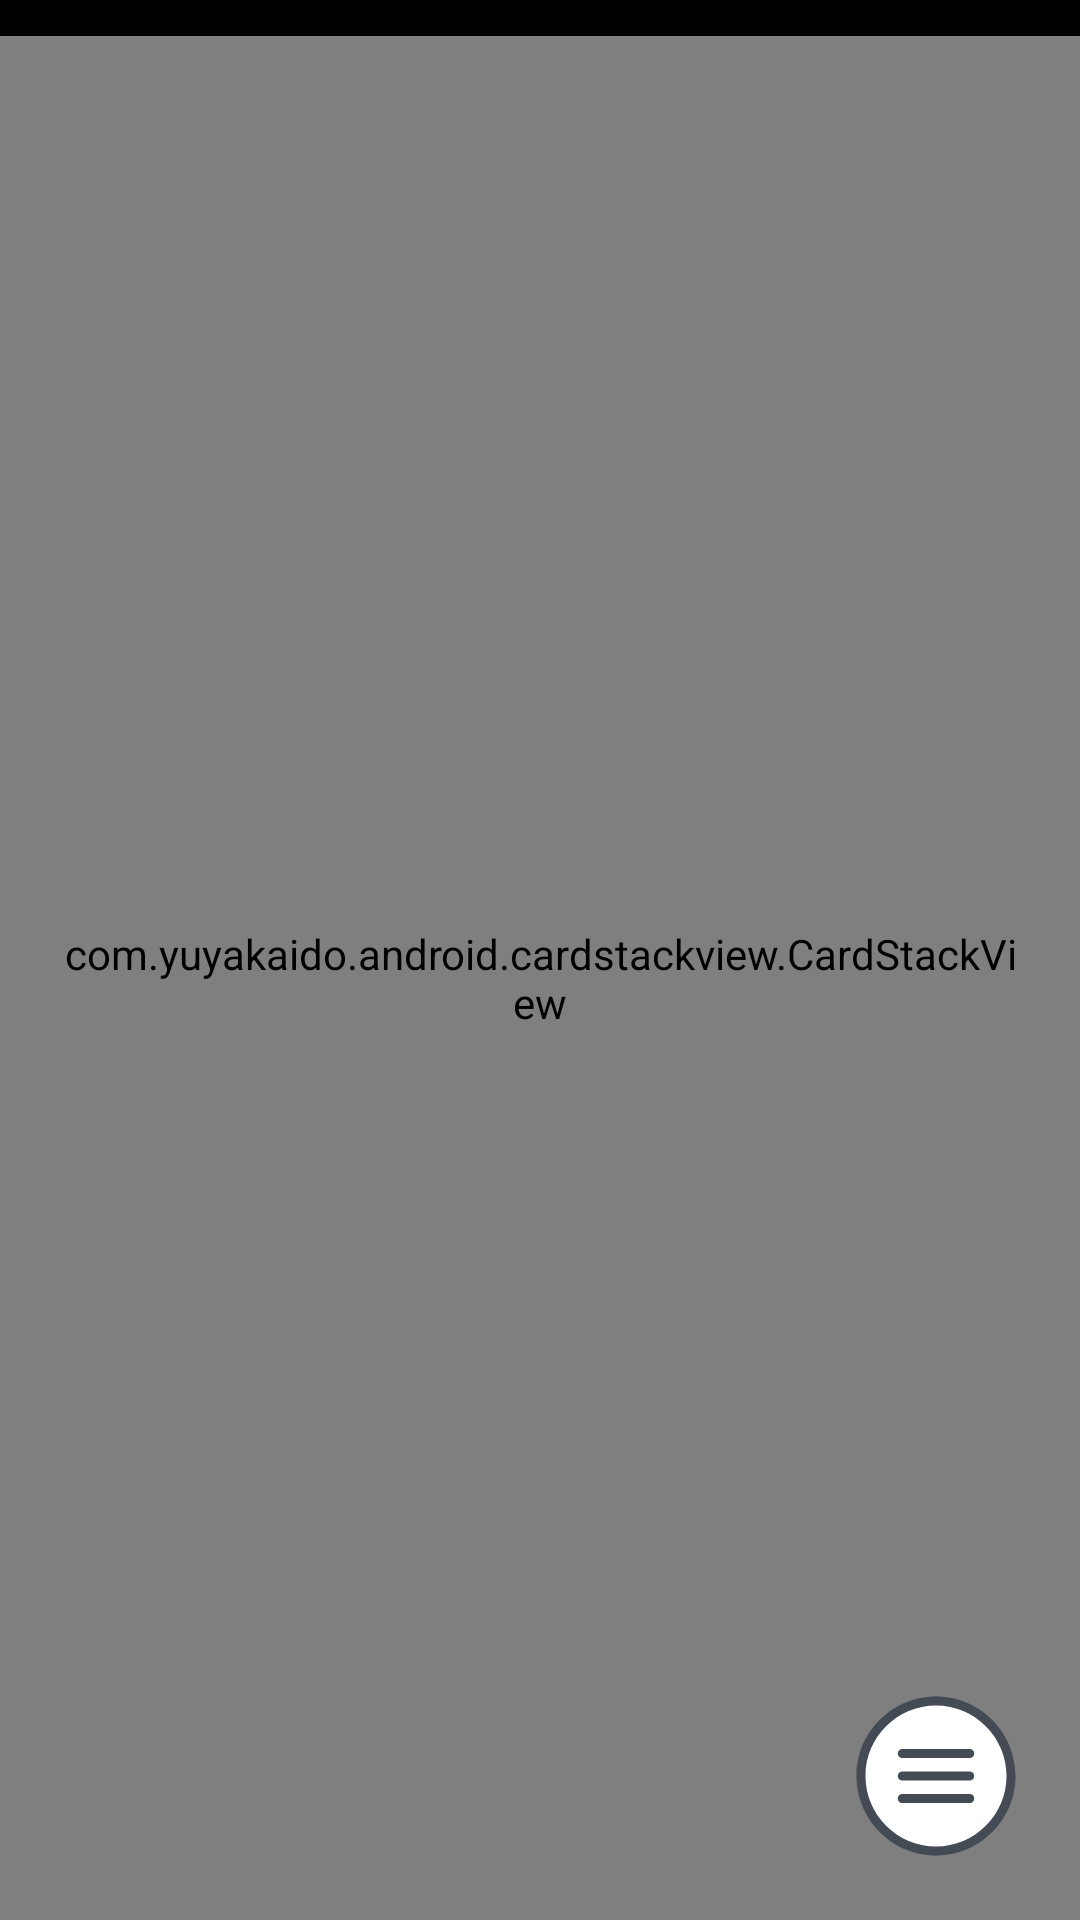

Screen size 1080px×1920px. Icon name, then its center in pixels as point (x, y):
menu: point (936, 1776)
